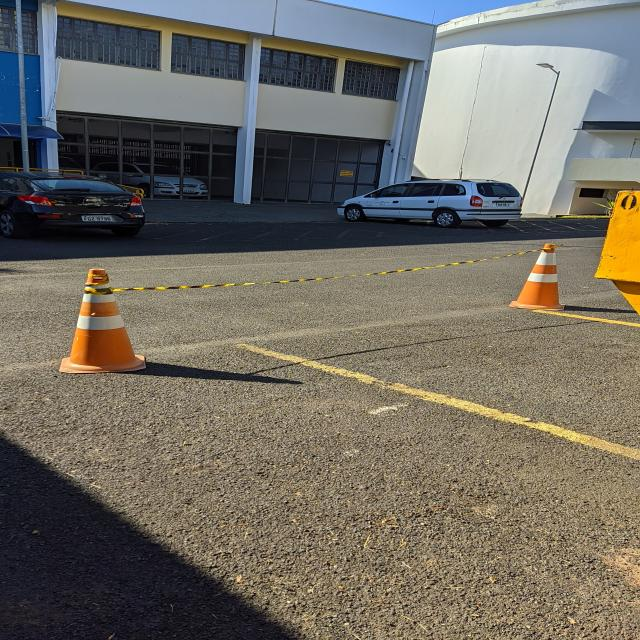cone: (53, 266, 151, 377), (502, 240, 570, 312)
